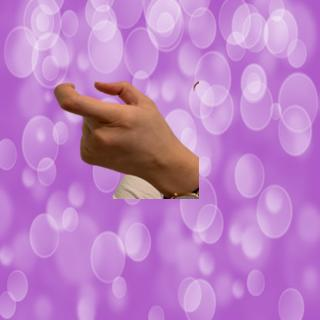HATE: (48, 77, 180, 180)
